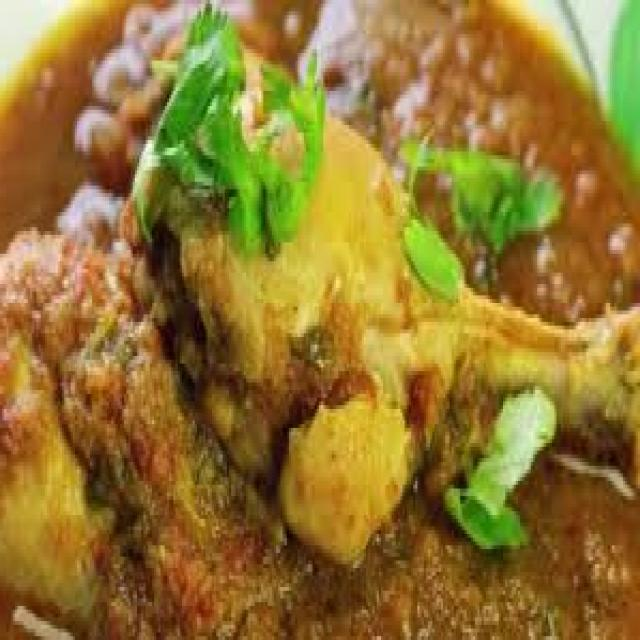Chicken Curry: (0, 7, 638, 640)
